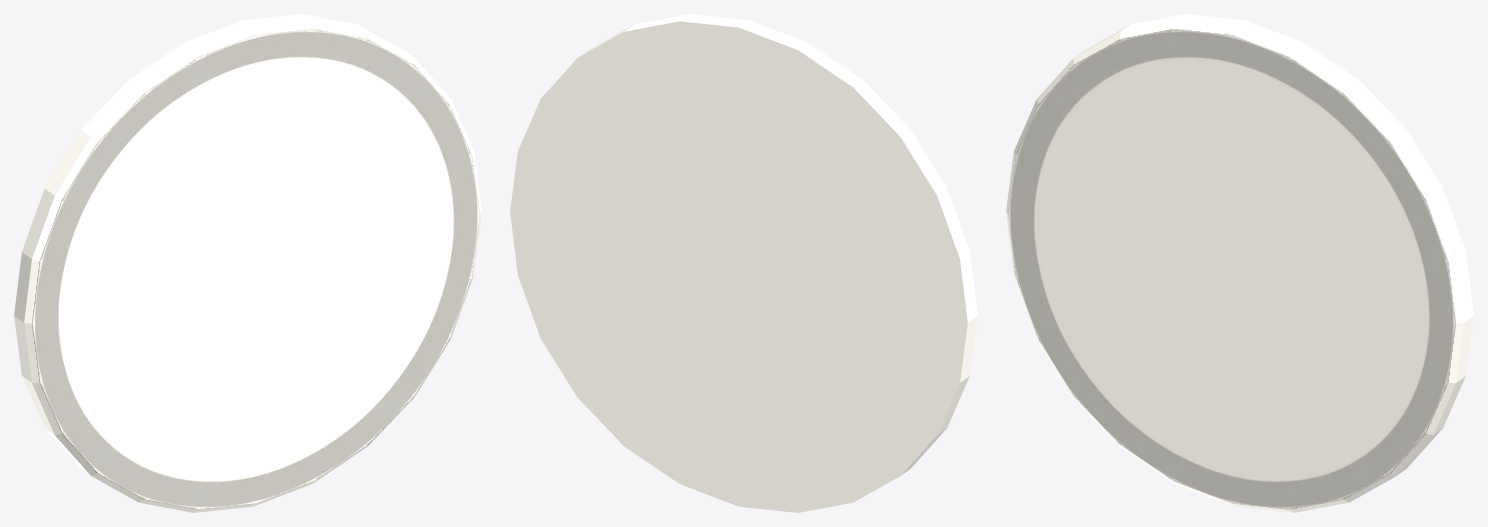
File: s5_intervention_badge.glb
3 views of the same model, side by side, from view 1: azimuth 30°, elevation 25°; view 2: azimuth 150°, elevation 25°; view 3: azimuth 330°, elevation 25° (orthographic).
Parts seen in each view (by area): view 1: badge; view 2: badge; view 3: badge.
Boxes of the visible parts, x1,y1,x2,y2 form: badge: (14, 14, 481, 512); badge: (510, 14, 977, 512); badge: (1006, 14, 1473, 512).
Size of the model in its own units: 1 by 1 by 0.0501.
1 material, 1 textured.
